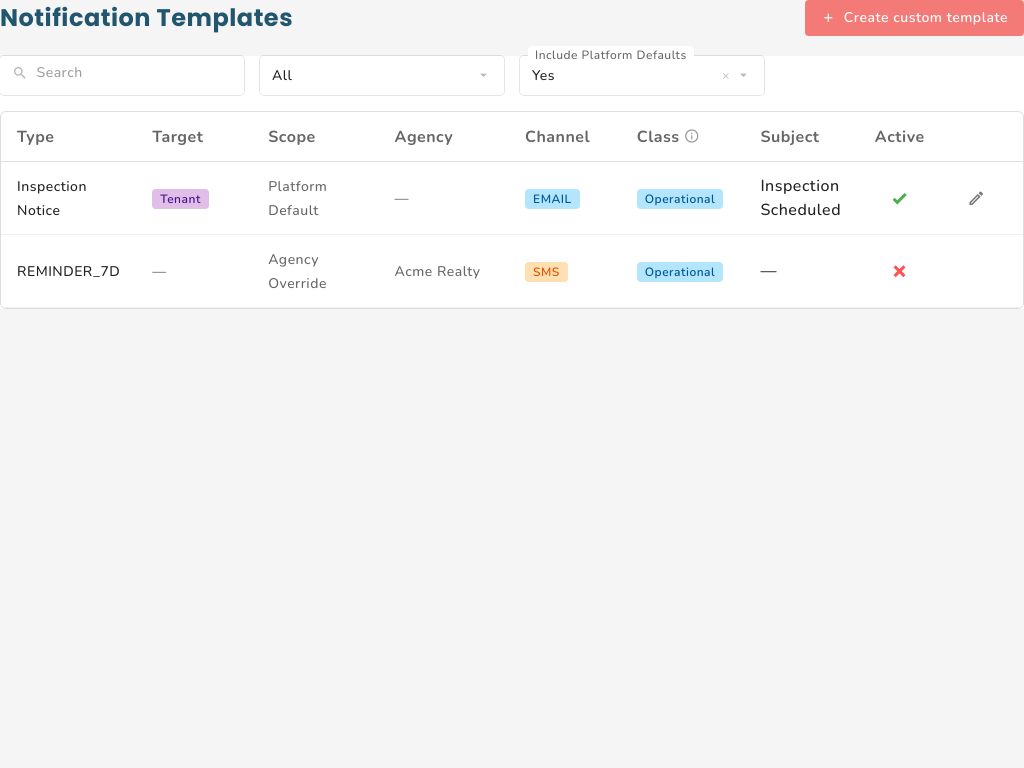
NotificationTemplateListPage › does not render the create drawer until the CTA is clicked
The width and height of the screenshot is (1024, 768).
Click the button "Create custom template": x=915, y=18 [805,0,1023,36]
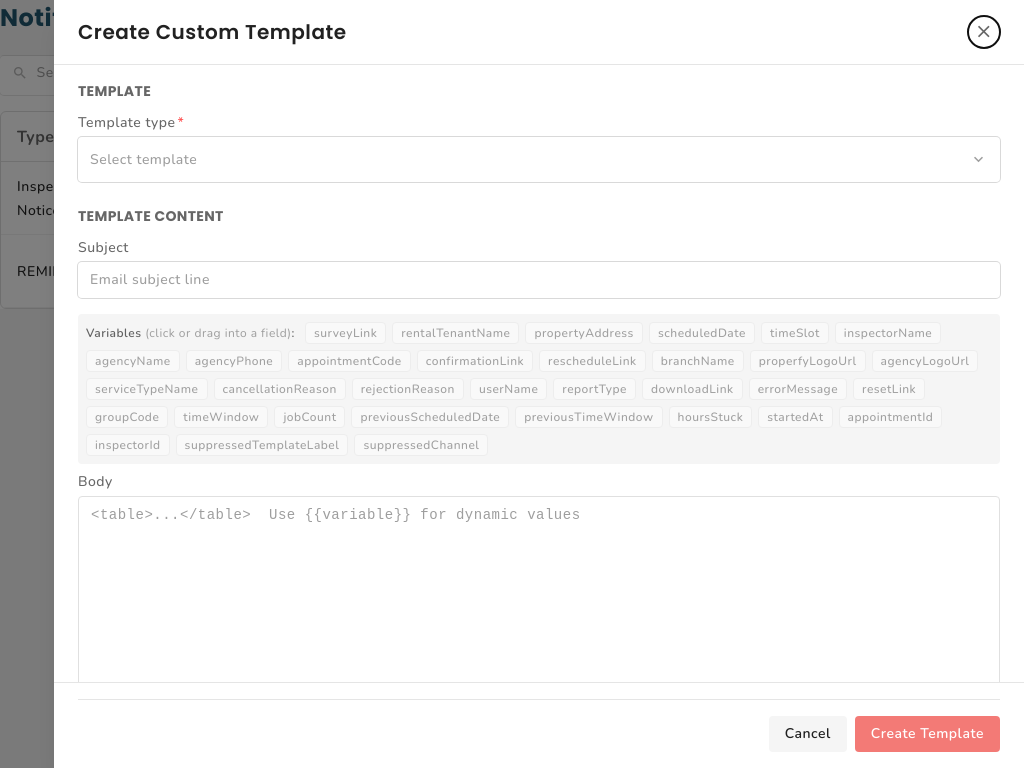
Check: the heading "Create Custom Template" is shown, box [78,18,346,46]
Check: the button with aria-label "Template type" is shown, box [78,137,1000,182]
